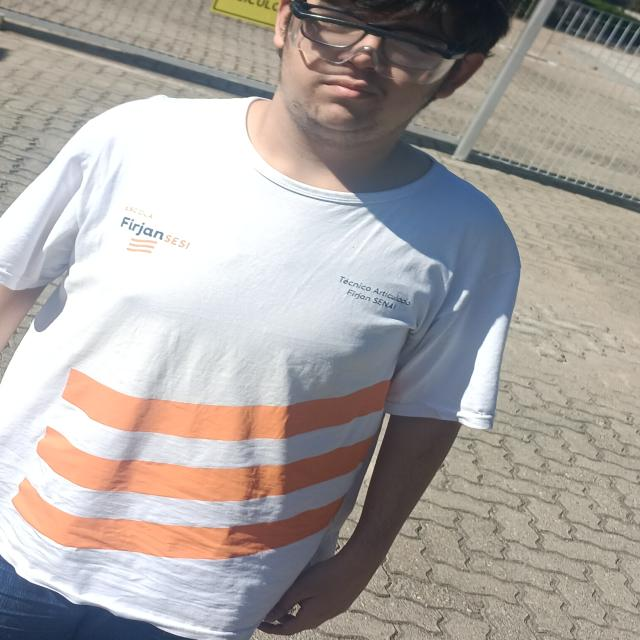oculos-epi: (283, 0, 484, 84)
